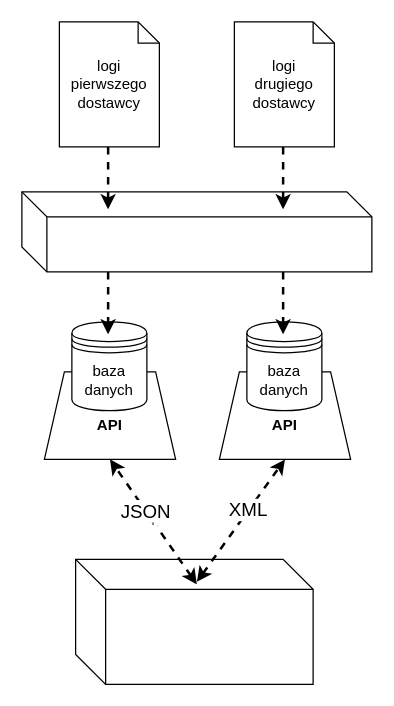
The diagram is 394 pixels wide and 706 high, and some of its shapes have lost their labels. The centre of each missing label's shape, as x and y in pixels:
HUB API aplikacja integrująca dane: (x=193, y=621)
skrypt tworzący strukturę bazy danych oraz ładujący do niej dane: (x=196, y=231)
